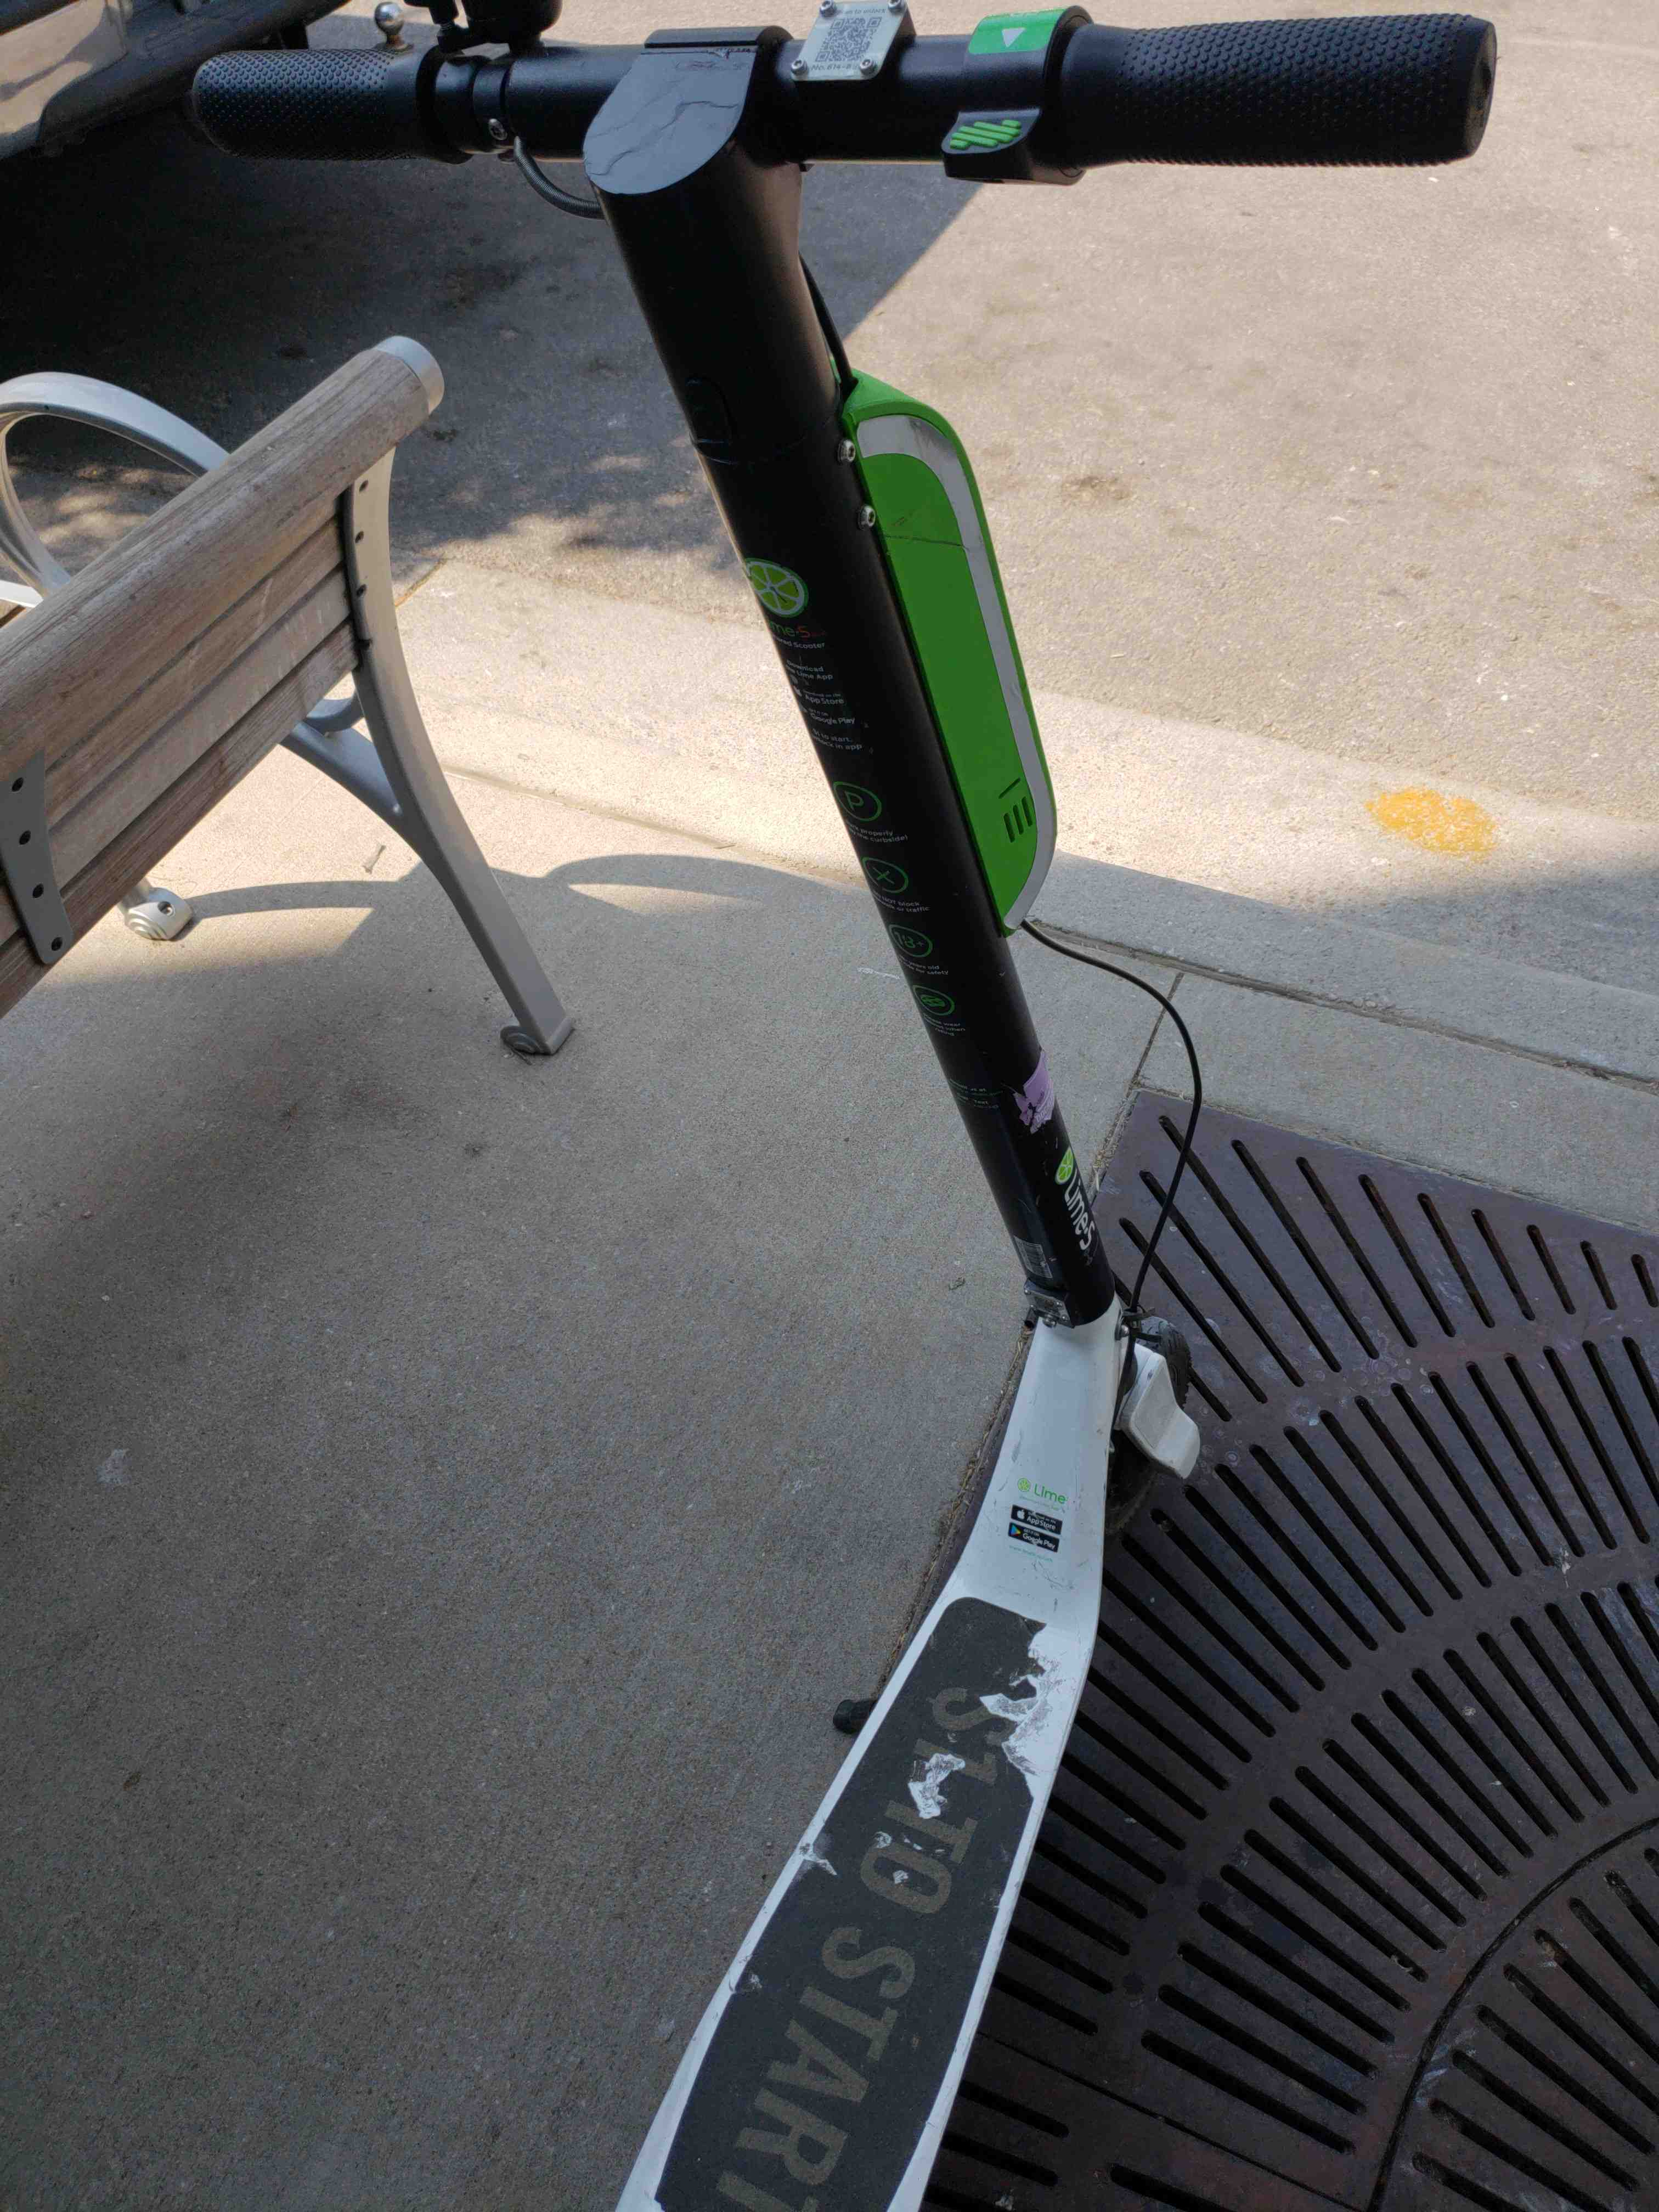scooter: (73, 57, 1506, 2207)
